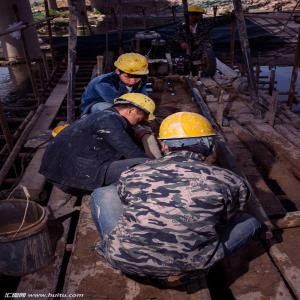yellow: (156, 111, 221, 161), (107, 94, 161, 130), (112, 54, 153, 89), (184, 6, 206, 25)
